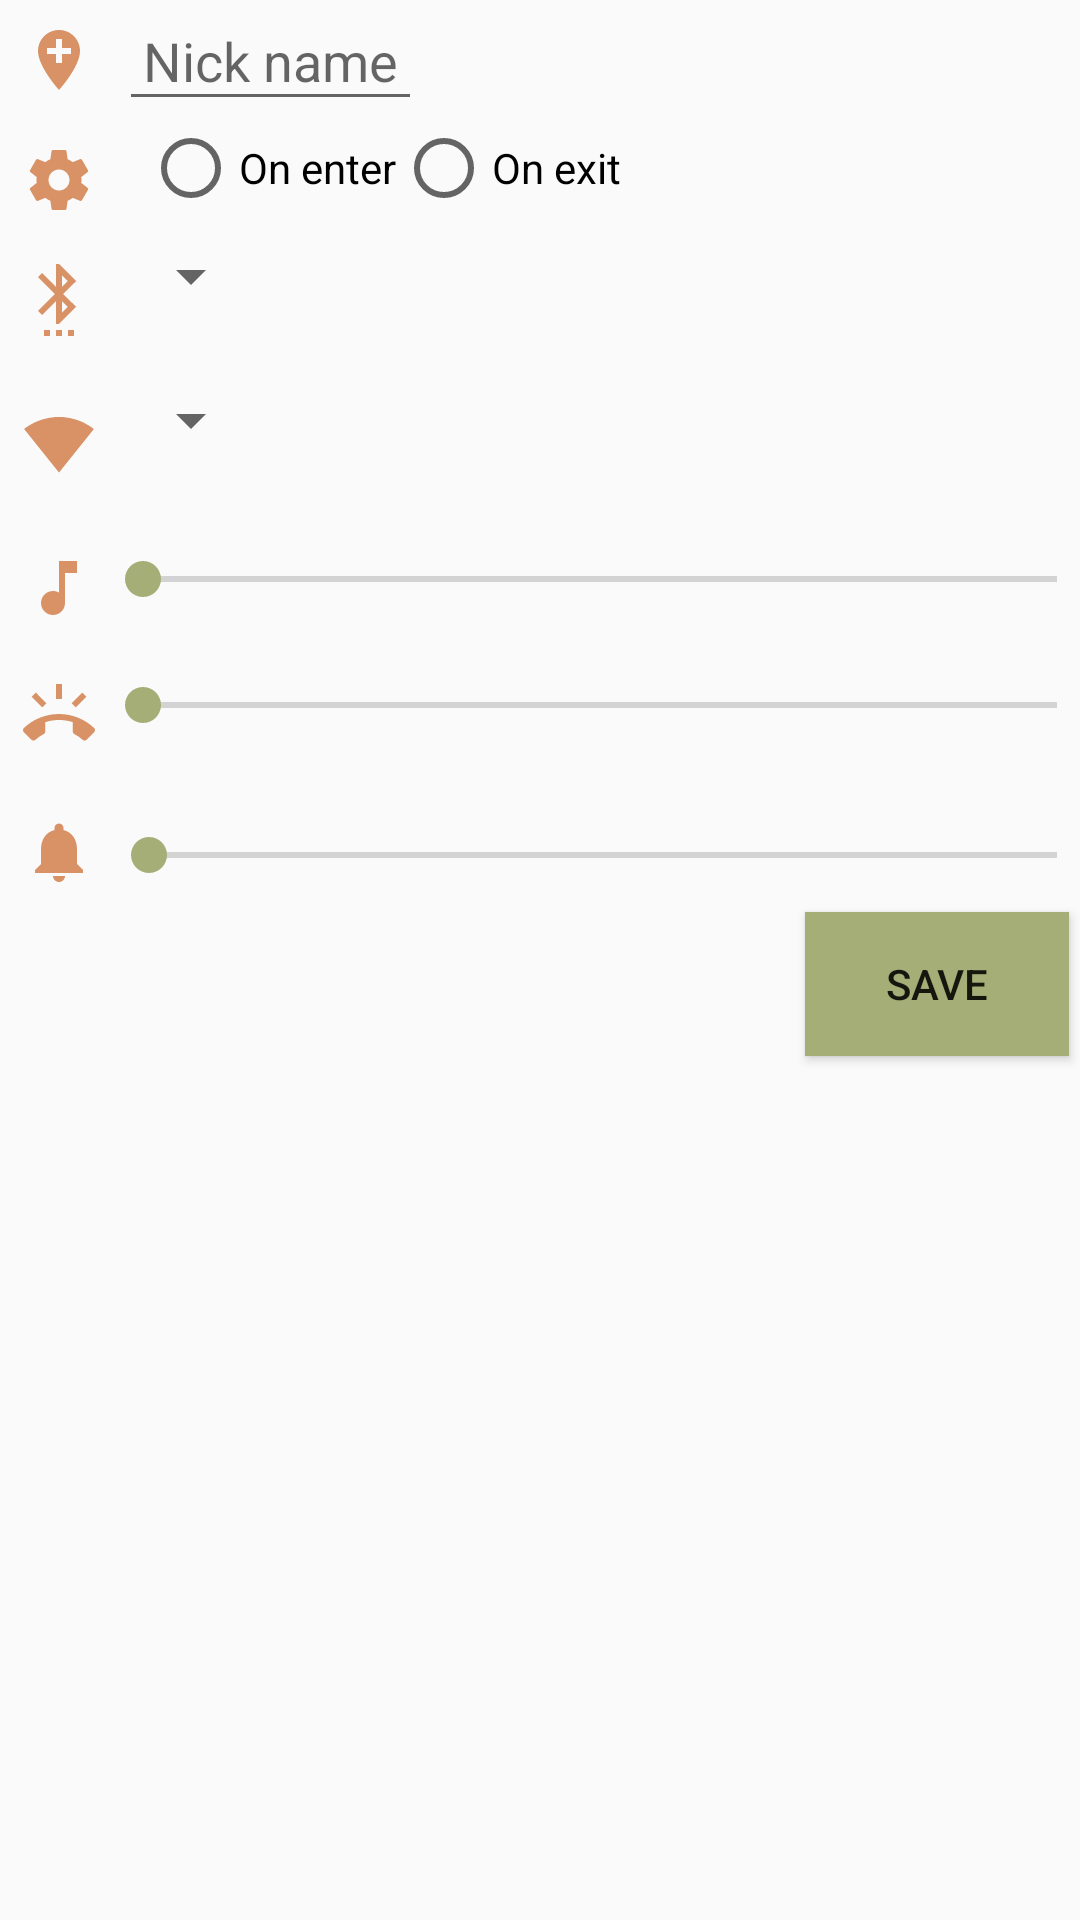

Named icons in this screenshot (1080×1920) and their centers, (x,y):
Media Volume Settings: (59,588)
notifications: (59,852)
ring volume brown: (59,712)
Trigger Settings: (59,180)
Wifi Settings: (59,444)
